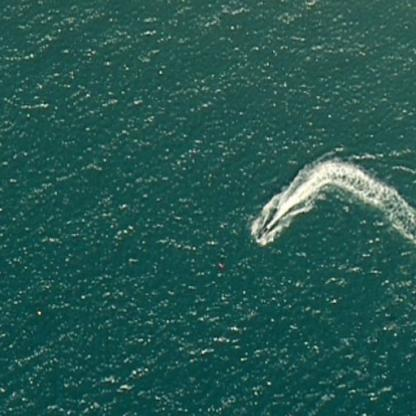ship: (250, 221, 274, 245)
